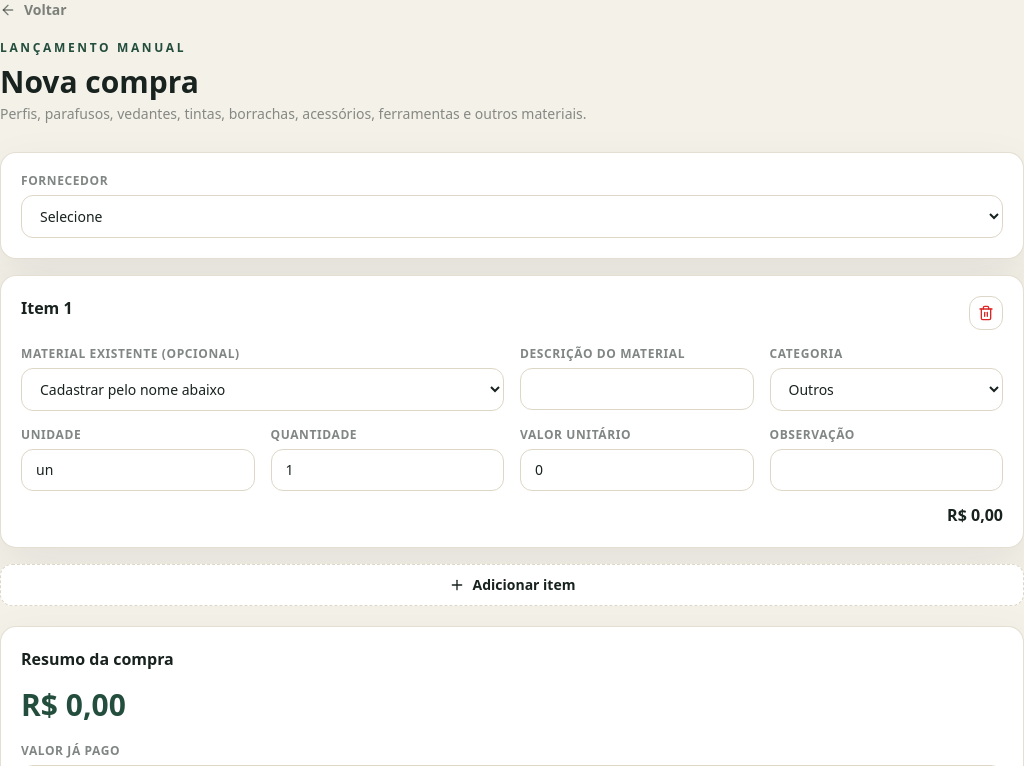
Scenario: purchase can submit with optional observations blank
Select "Cliente teste" in the dropdown named "Fornecedor": (512, 216) [21,195,1003,238]
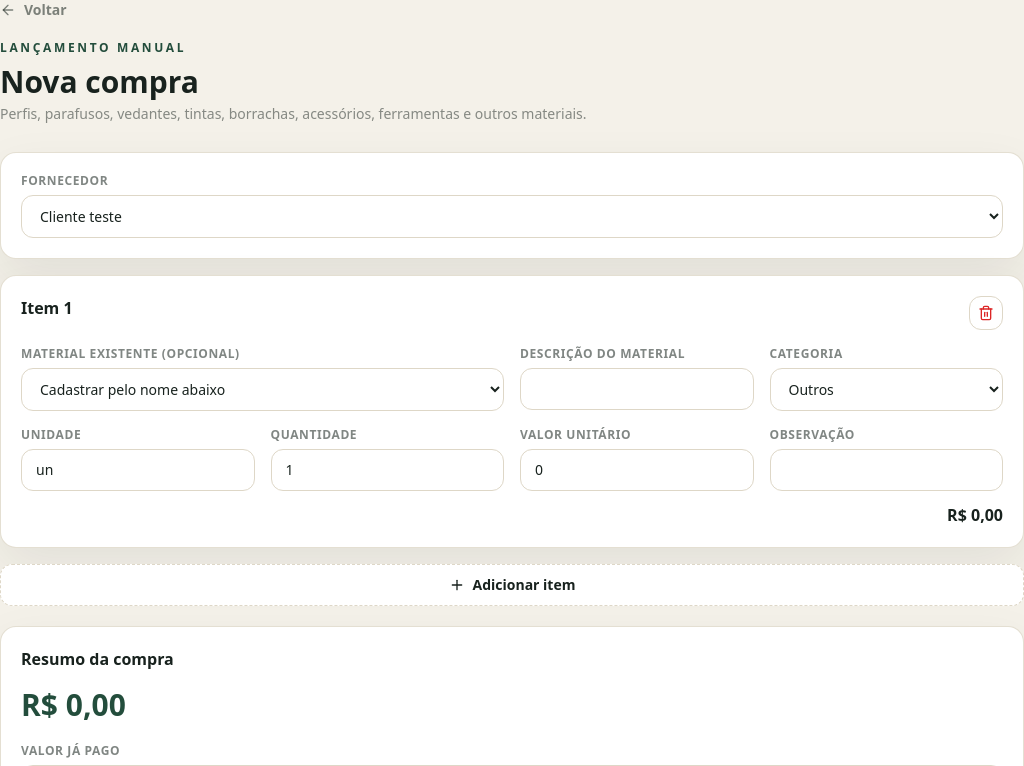
Select "Chapa" in the dropdown named "Material existente": (262, 390) [21,368,504,411]
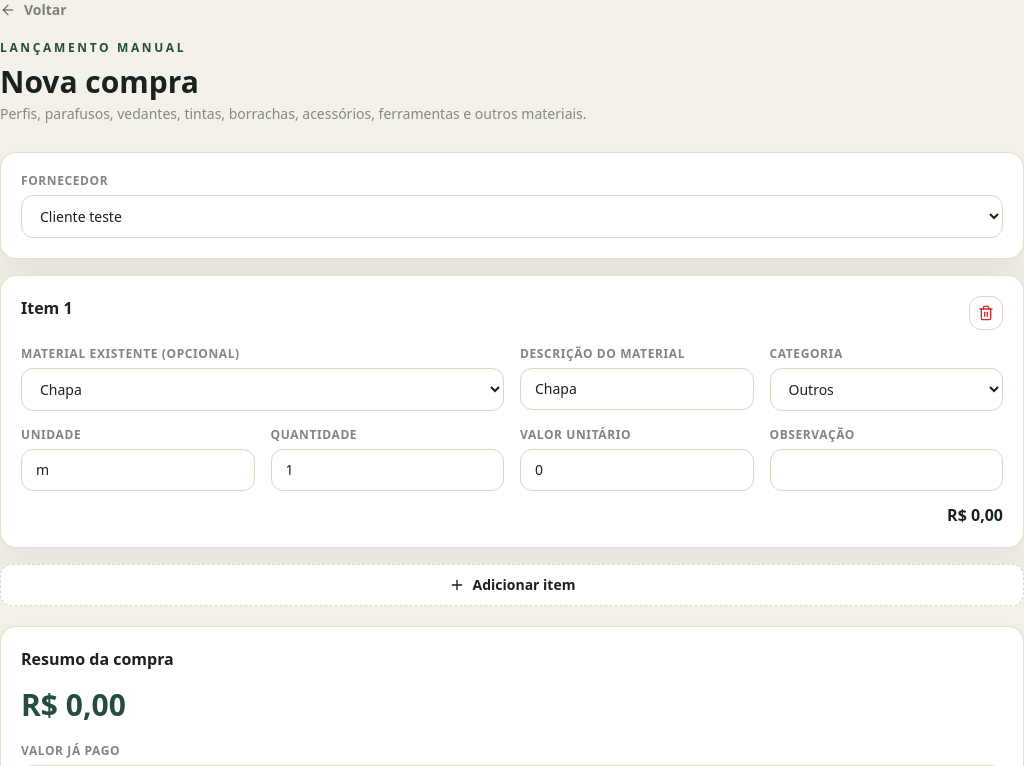
Replace the text in the number field named "Valor unitário" with "10": (637, 470) [520,449,754,491]
(page scrolled)
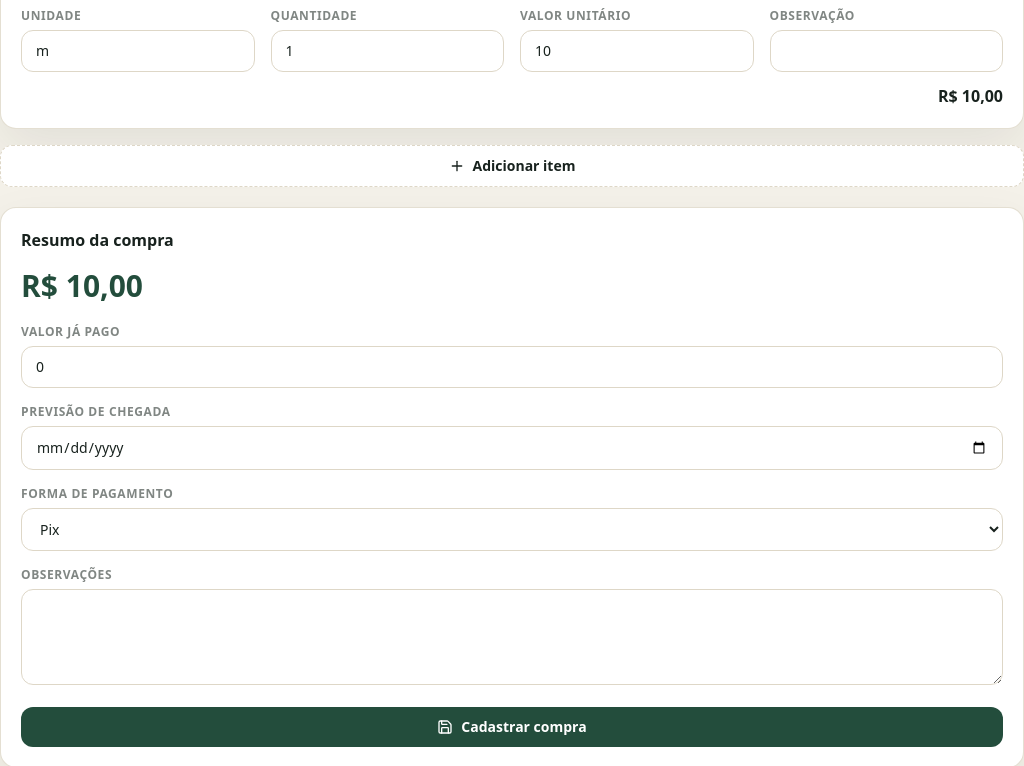
Expected: the button "Cadastrar compra" is enabled, [21,707,1003,747]
